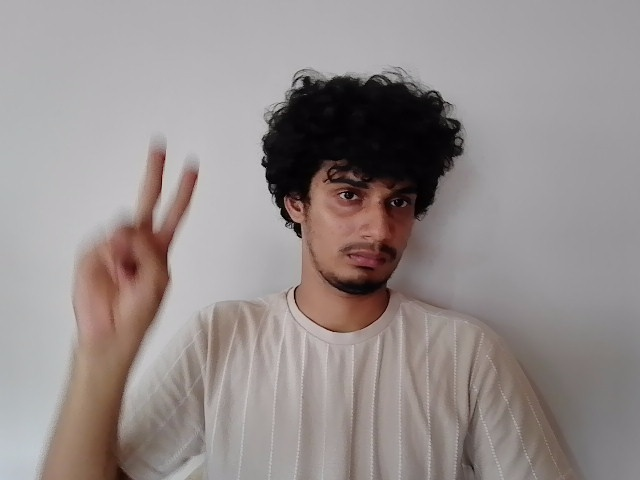travel: (69, 130, 203, 343)
